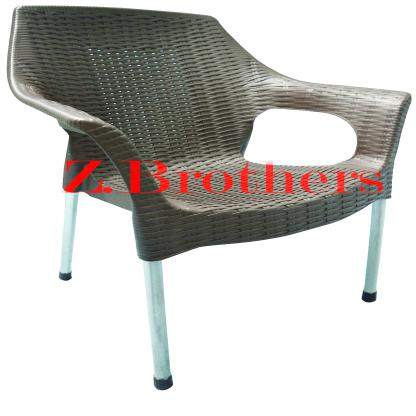chair: (6, 4, 416, 395)
